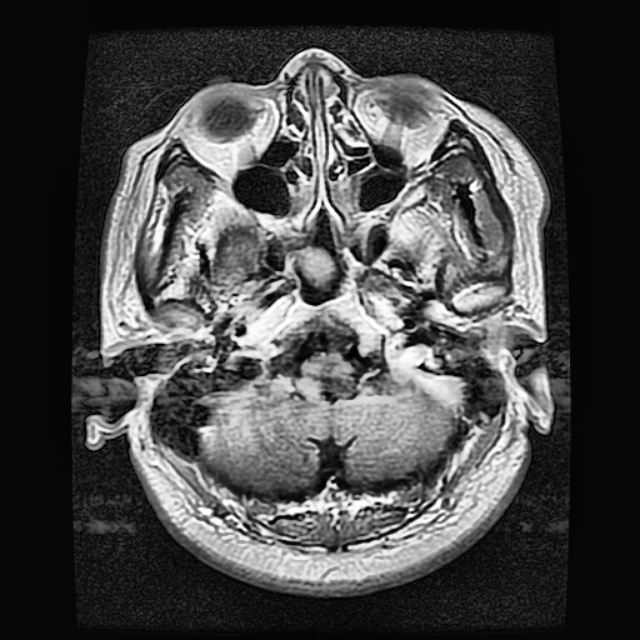Pituitary: (295, 244, 335, 284)
